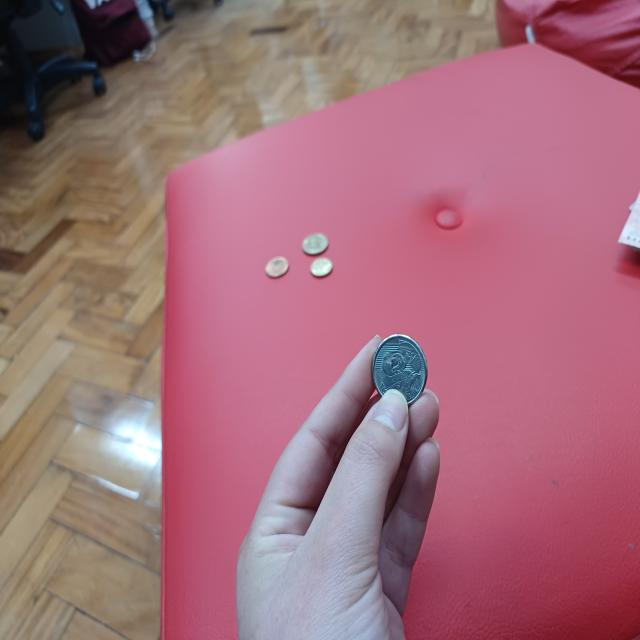50 cents: (371, 331, 430, 412)
